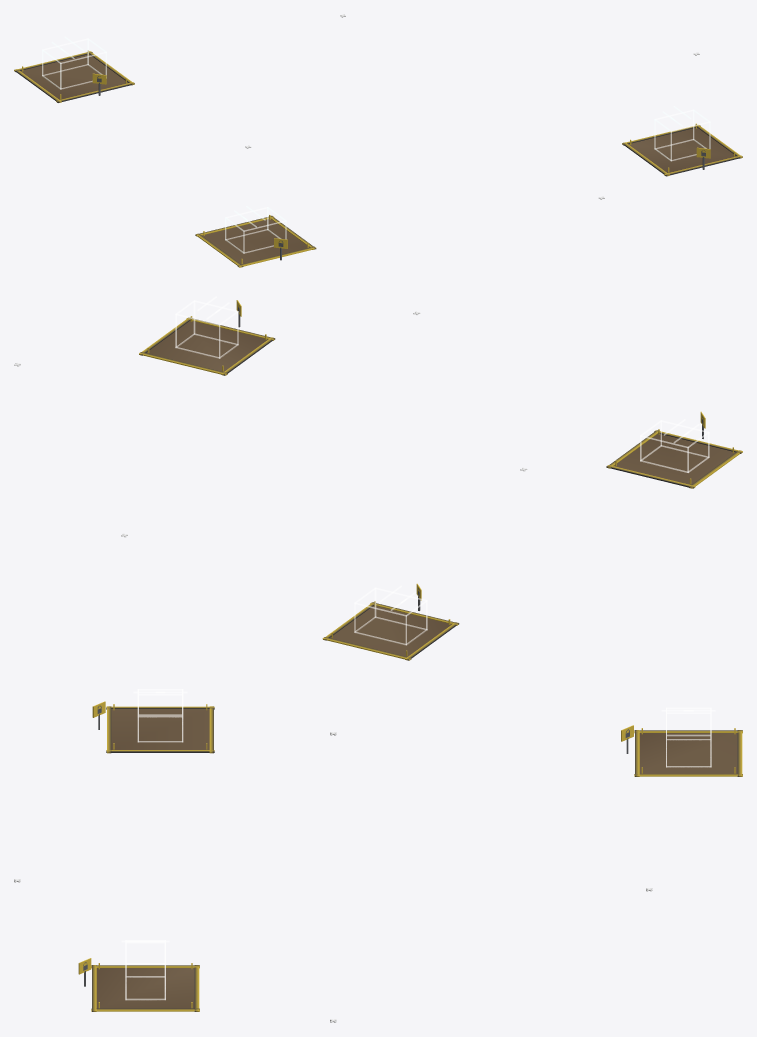
File: Sites_P1.fbx
3 views of the same model, one above another, from view 1: azimuth 30°, elevation 25°; view 2: azimuth 150°, elevation 25°; view 3: azimuth 270°, elevation 25° (orthographic). The views are drawn at different scales.
Visible parts, largest first — view 1: Site.plant.Pad, Site.store.Pad, Site.quarry.Pad, Site.store.Ghost, Site.plant.Ghost, Site.quarry.Ghost; view 2: Site.store.Pad, Site.plant.Pad, Site.quarry.Pad, Site.store.Ghost, Site.plant.Ghost, Site.quarry.Ghost; view 3: Site.plant.Pad, Site.store.Pad, Site.quarry.Pad, Site.quarry.Ghost, Site.store.Ghost, Site.plant.Ghost.
Part boxes in pixels (left/top/right/bottom): Site.plant.Pad: left=622, top=123, right=742, bottom=176; Site.store.Pad: left=14, top=50, right=134, bottom=102; Site.quarry.Pad: left=195, top=215, right=316, bottom=267; Site.store.Ghost: left=42, top=36, right=106, bottom=89; Site.plant.Ghost: left=654, top=106, right=710, bottom=161; Site.quarry.Ghost: left=225, top=206, right=286, bottom=253; Site.store.Pad: left=322, top=601, right=459, bottom=660; Site.plant.Pad: left=139, top=316, right=275, bottom=375; Site.quarry.Pad: left=606, top=429, right=742, bottom=488; Site.store.Ghost: left=354, top=585, right=427, bottom=645; Site.plant.Ghost: left=175, top=296, right=238, bottom=358; Site.quarry.Ghost: left=640, top=419, right=709, bottom=472; Site.plant.Pad: left=91, top=963, right=199, bottom=1011; Site.store.Pad: left=634, top=728, right=742, bottom=776; Site.quarry.Pad: left=106, top=704, right=214, bottom=753; Site.quarry.Ghost: left=133, top=689, right=187, bottom=742; Site.store.Ghost: left=661, top=707, right=715, bottom=767; Site.plant.Ghost: left=121, top=940, right=169, bottom=1000.
Bounding box in the file's own units: 31534 × 2128 × 29534.
